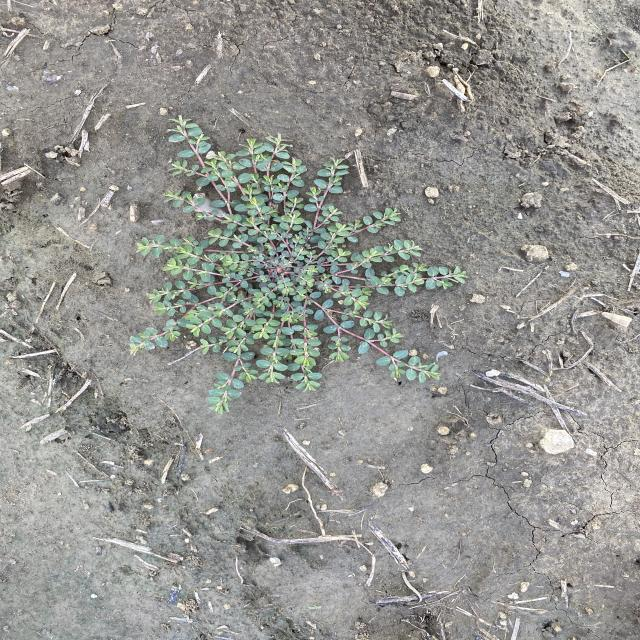SpottedSpurge: (126, 114, 472, 416)
